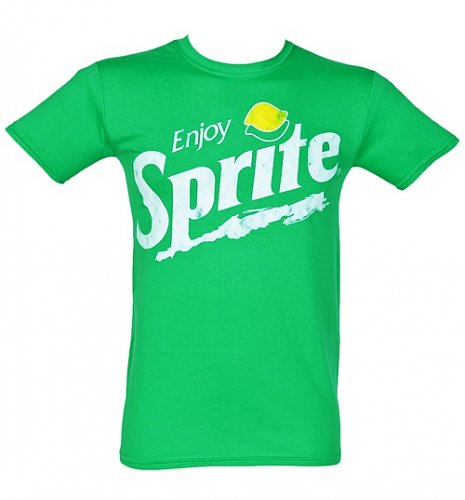sprite: (133, 121, 339, 249), (137, 121, 339, 249)
